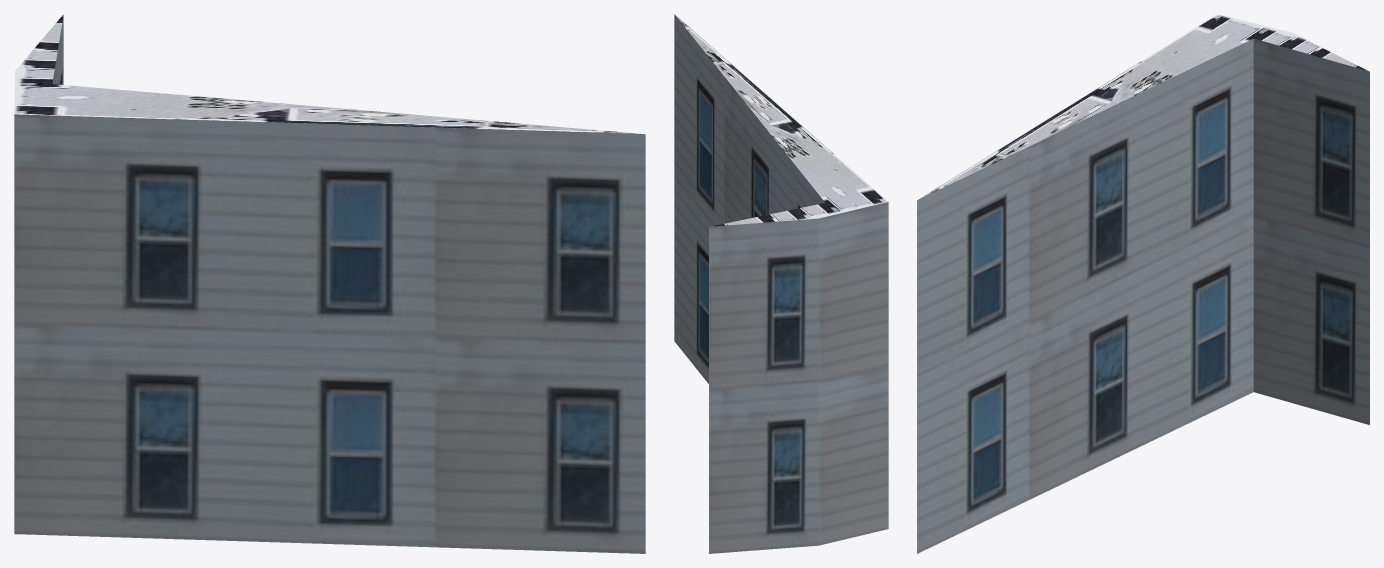
Rendered from ResTex__4461.fbx.
The picture shows the model from 3 angles, left to right: view 1: azimuth 30°, elevation 25°; view 2: azimuth 150°, elevation 25°; view 3: azimuth 270°, elevation 25°; orthographic projection. The views are drawn at different scales.
Parts seen in each view (by area): view 1: CityEngineMaterial_18_m, CityEngineMaterial_8_m; view 2: CityEngineMaterial_18_m, CityEngineMaterial_8_m; view 3: CityEngineMaterial_18_m, CityEngineMaterial_8_m.
Part boxes in pixels (box(x1,y1,x2,y2)): CityEngineMaterial_18_m: box(14, 16, 645, 553); CityEngineMaterial_8_m: box(14, 14, 644, 134); CityEngineMaterial_18_m: box(674, 14, 888, 553); CityEngineMaterial_8_m: box(675, 15, 888, 226); CityEngineMaterial_18_m: box(917, 38, 1369, 553); CityEngineMaterial_8_m: box(918, 14, 1368, 199).
Size of the model in its own units: 6.78 by 6 by 6.96.
Materials: 2 (2 with a texture image).
